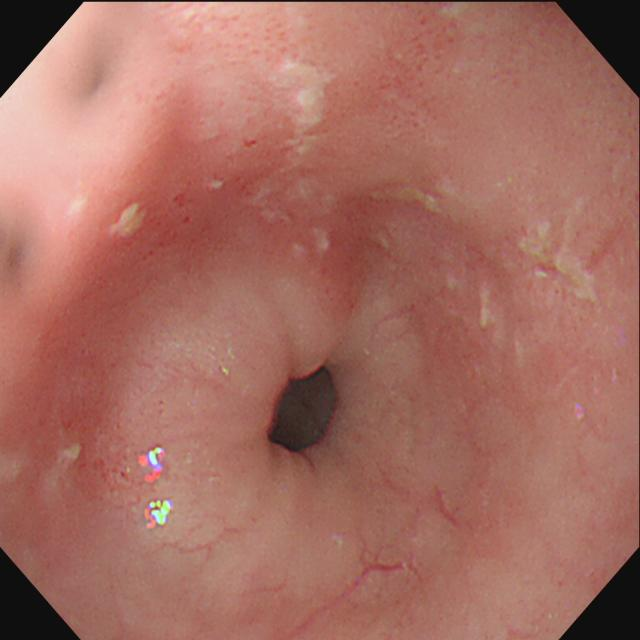E: (264, 367, 341, 461)
J: (515, 221, 600, 304), (281, 61, 337, 158), (370, 185, 446, 217), (110, 203, 149, 240)
U: (139, 446, 178, 532)
